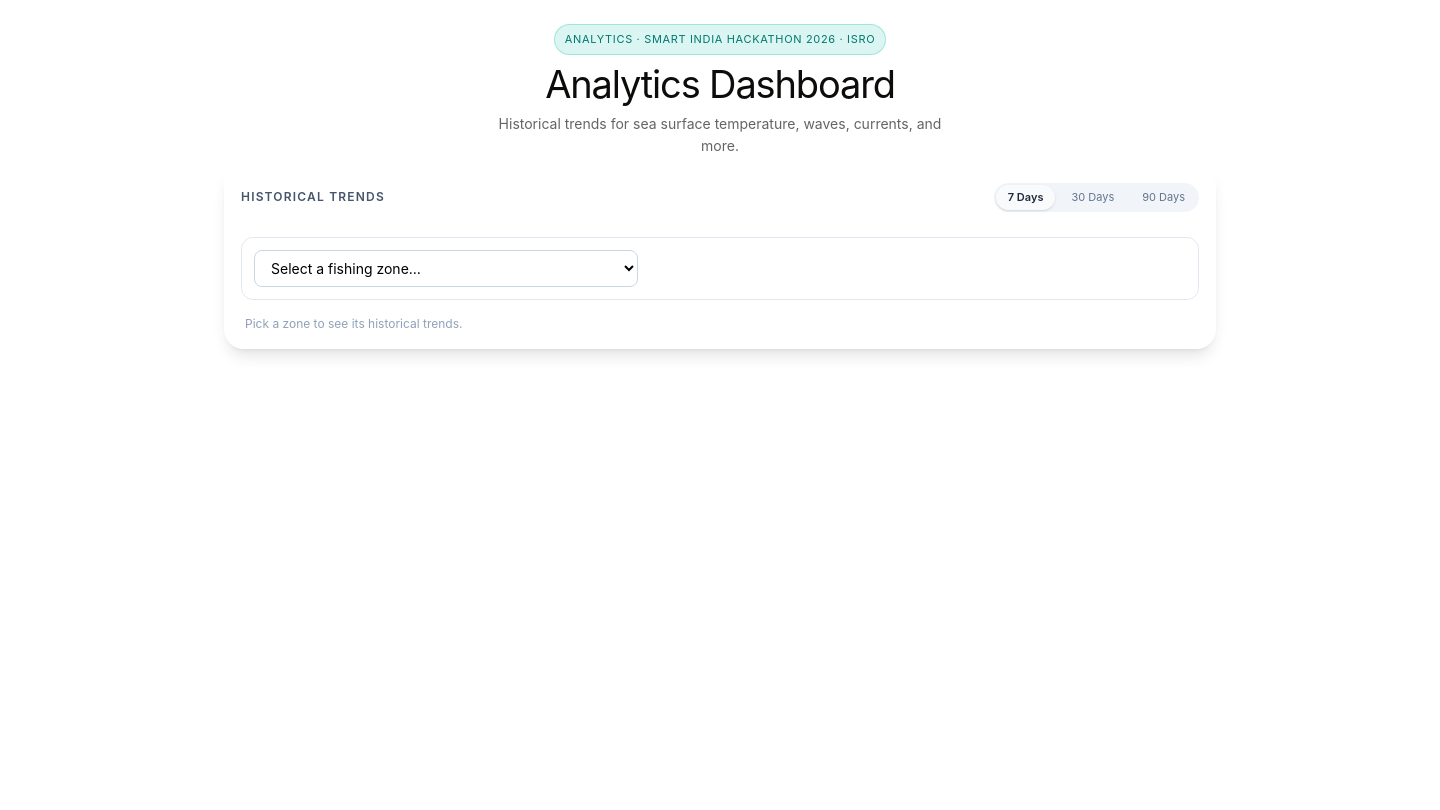
Test case: AnalyticsPage — historical data › fetches and renders series once a zone is selected: chart card, direction table, moon-phase table
Select "PFZ-001 — near Kochi" in the dropdown at [446, 268], box top-left (254, 250), bottom-right (638, 286)
(page scrolled)
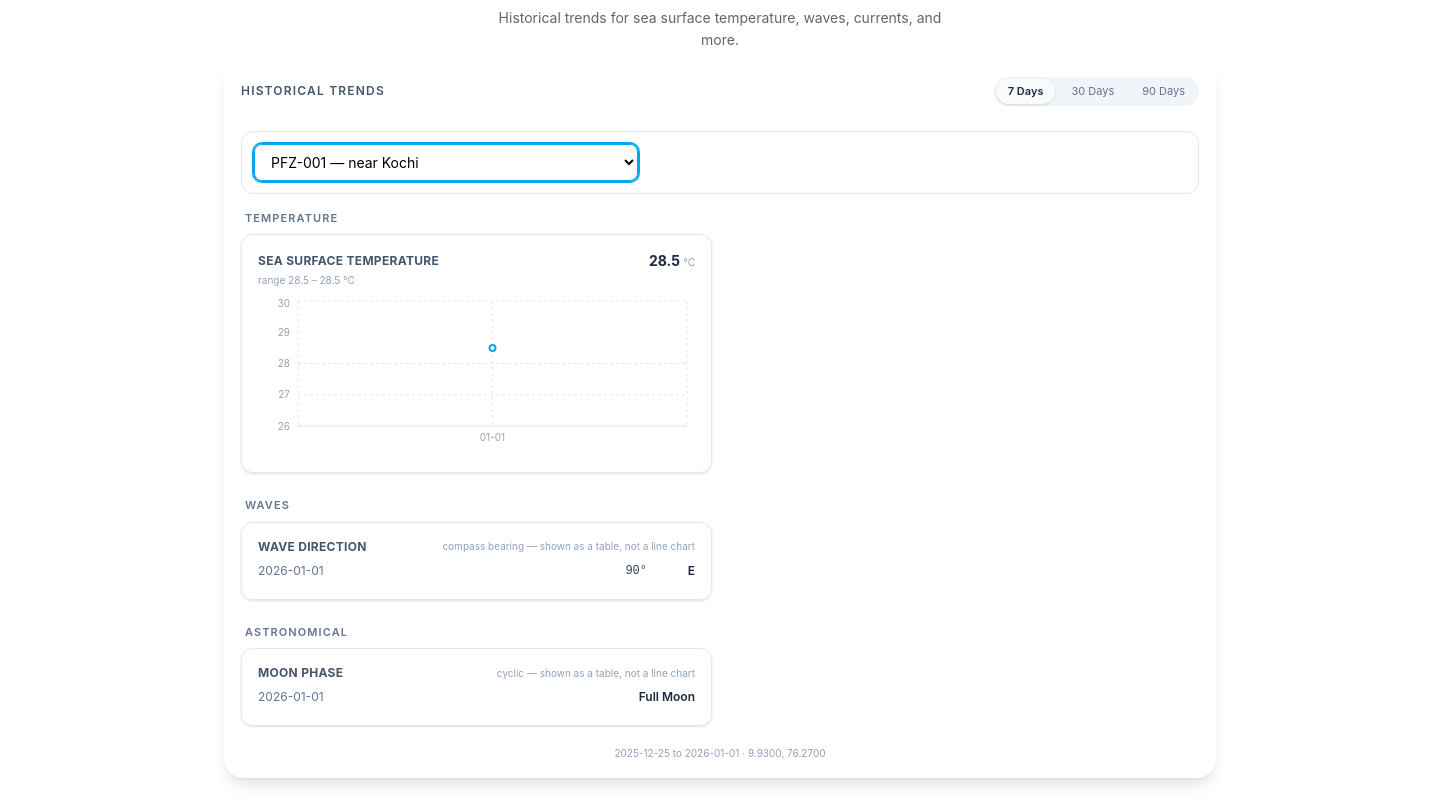
Check: the heading "Sea Surface Temperature" is shown, box top-left (258, 253), bottom-right (439, 269)
Check: the heading "Wave Direction" is shown, box top-left (258, 538), bottom-right (367, 554)
Check: the text "compass bearing — shown as a table, not a line chart" is shown, box top-left (442, 539), bottom-right (695, 554)
